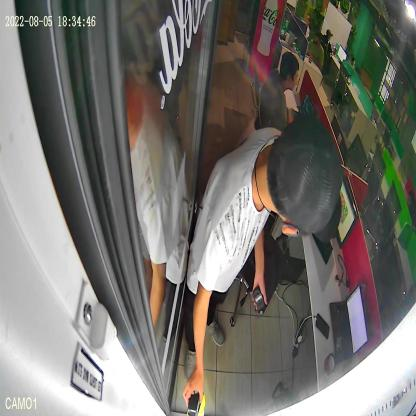yellow: (187, 392, 206, 416)
